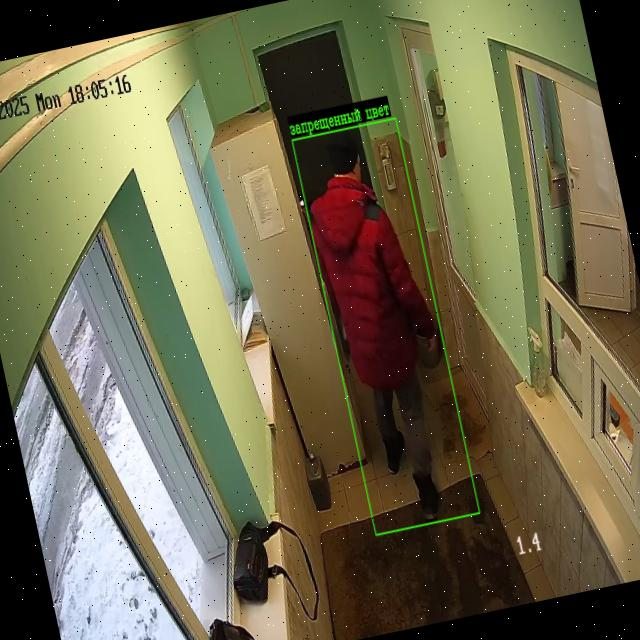Red uniform: (310, 138, 439, 520)
